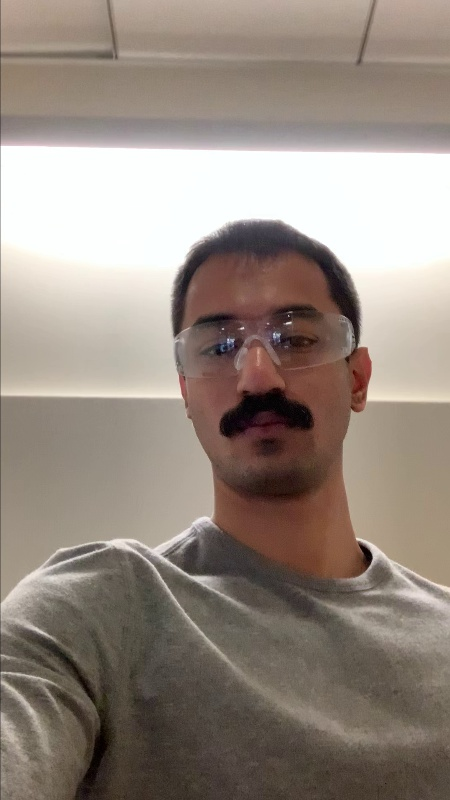glasses: (166, 313, 367, 364)
